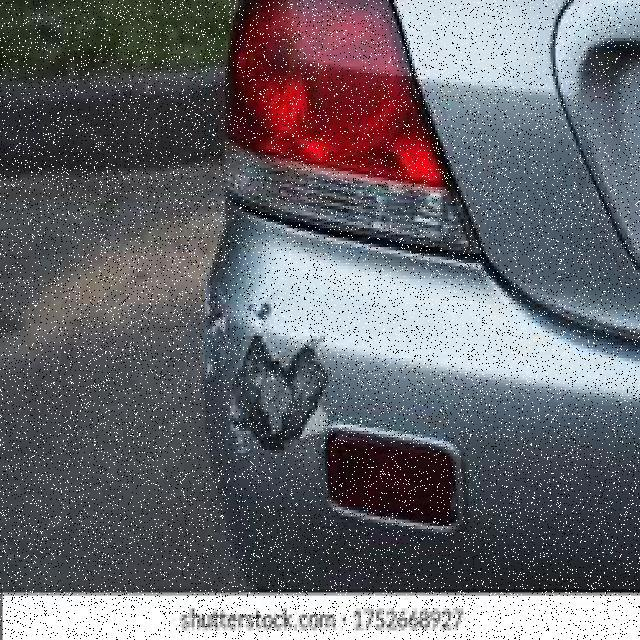rear-bumper-dent: (145, 187, 536, 590)
